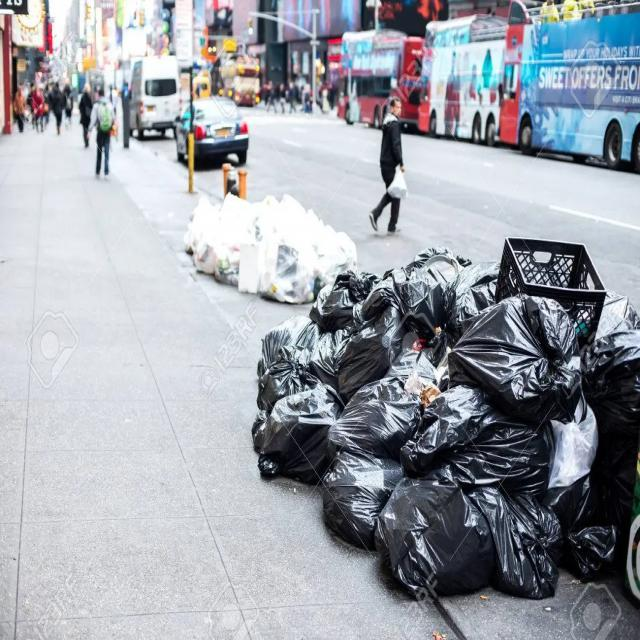garbage: (239, 234, 640, 609)
